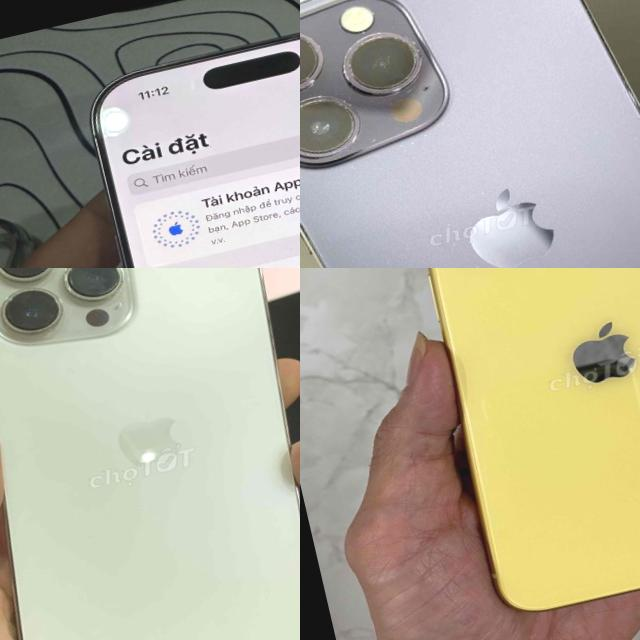scratch: (332, 12, 439, 108), (300, 79, 385, 177), (300, 17, 332, 105)
